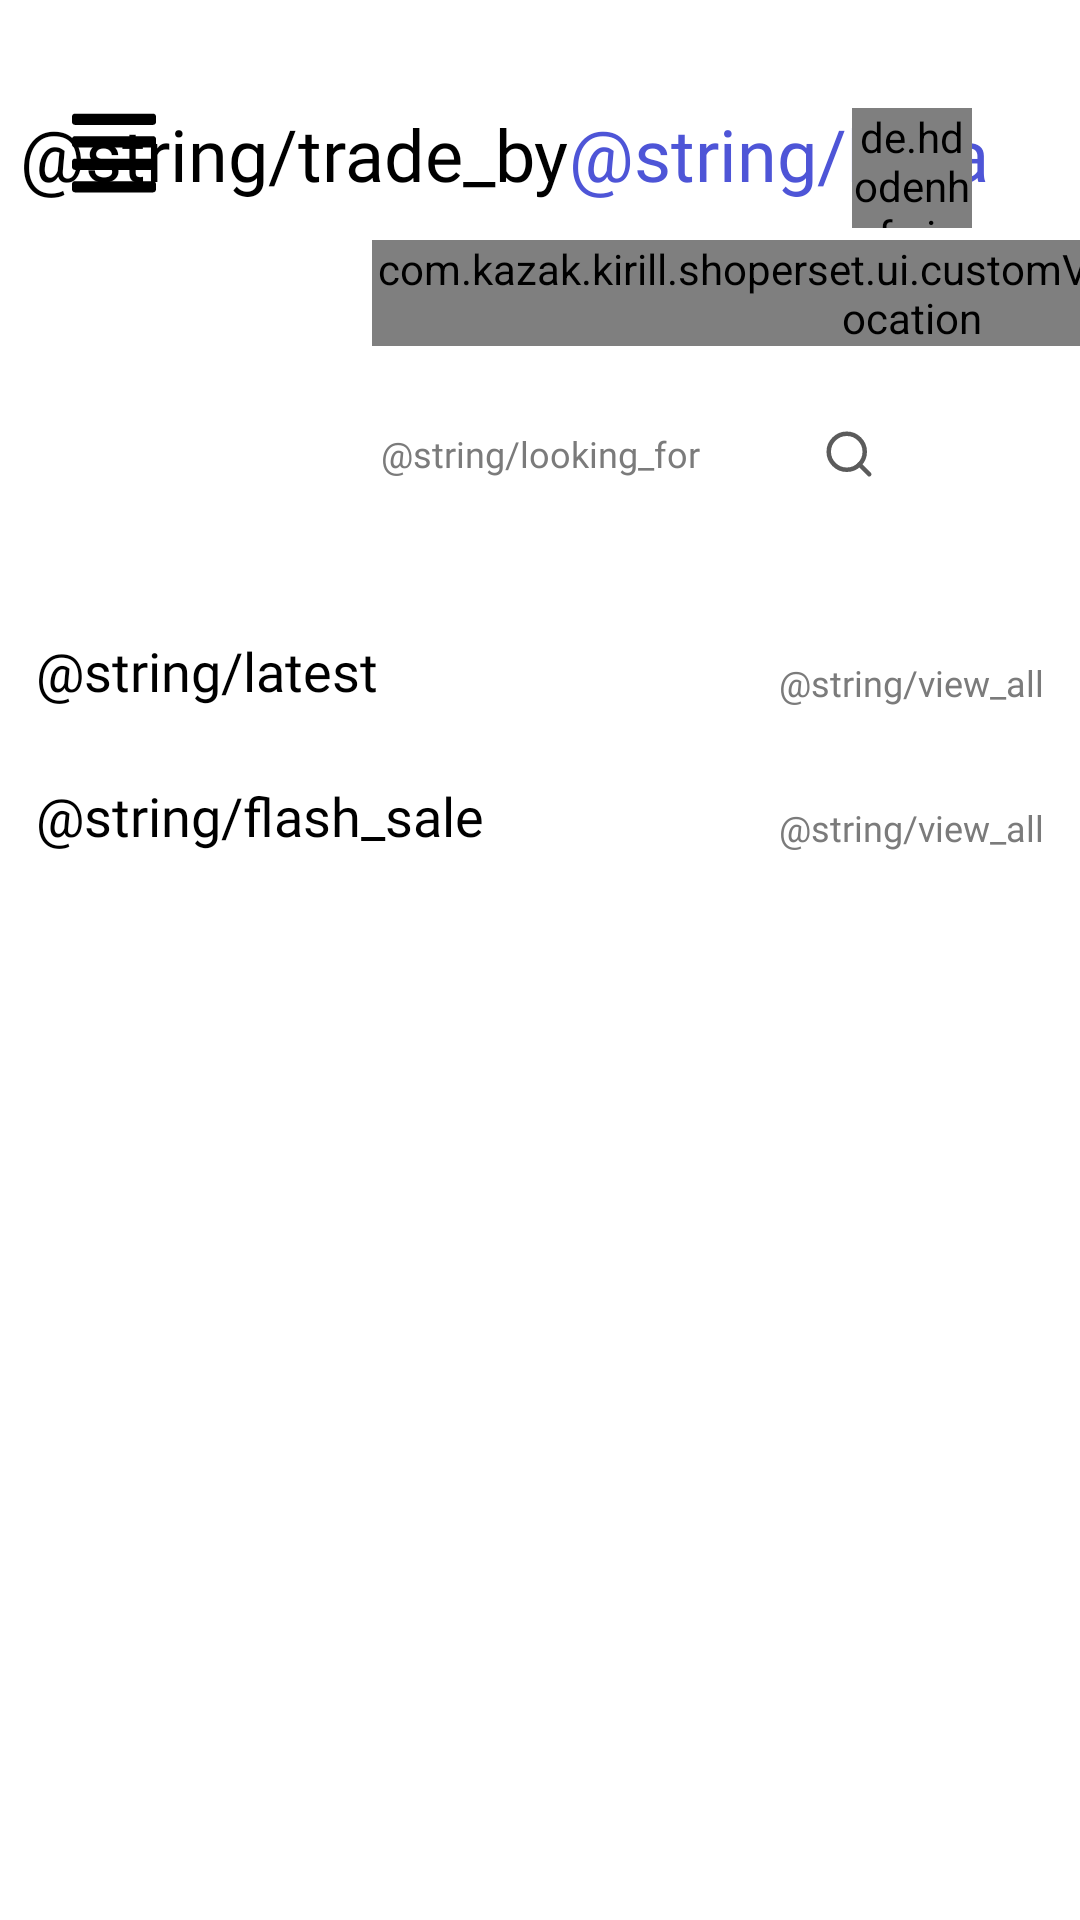

Icon click points for this 1080x1920 phone screenshot, format (x=x, y=y):
search: (x=849, y=454)
